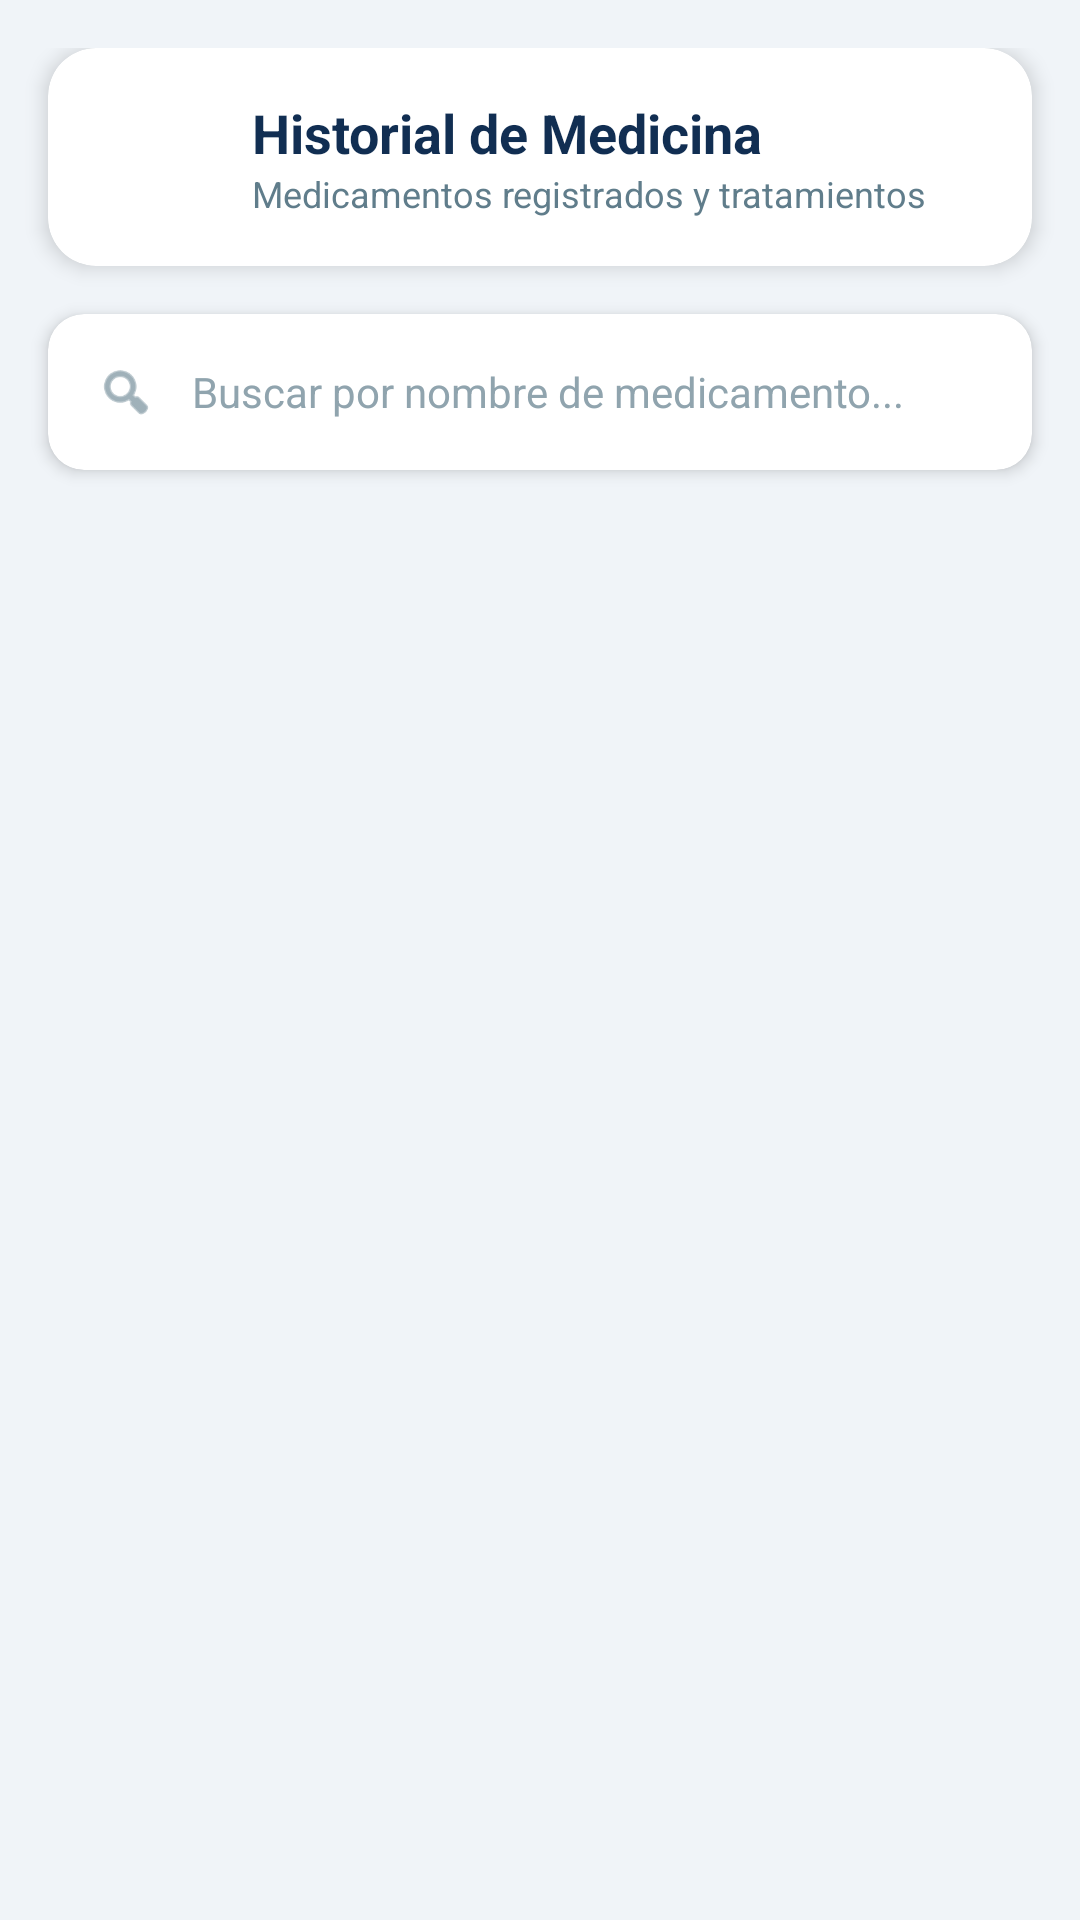

Icons on this 1080w x 1920h Android screen, each with the point to tap as [x,y]:
search: [126,392]
